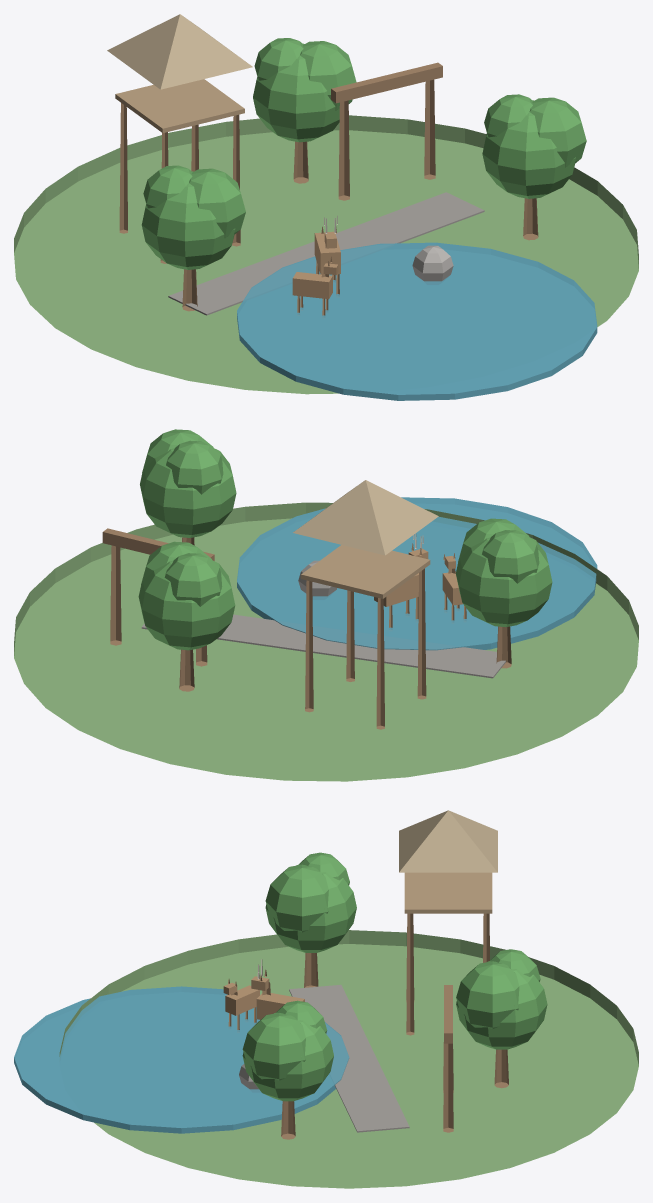
File: van_vihar_bhopal.glb
3 renders of one model, top to bottom at view 1: azimuth 30°, elevation 25°; view 2: azimuth 150°, elevation 25°; view 3: azimuth 270°, elevation 25°, orthographic. The views are drawn at different scales.
Visible parts, largest first — view 1: VanViharNationalPark_Root; view 2: VanViharNationalPark_Root; view 3: VanViharNationalPark_Root.
Part boxes in pixels (box(x1,y1,x2,y2)): VanViharNationalPark_Root: box(14, 14, 638, 400); VanViharNationalPark_Root: box(14, 429, 638, 781); VanViharNationalPark_Root: box(14, 810, 638, 1188).
Size of the model in its own units: 2.13 by 0.8695 by 2.3.
